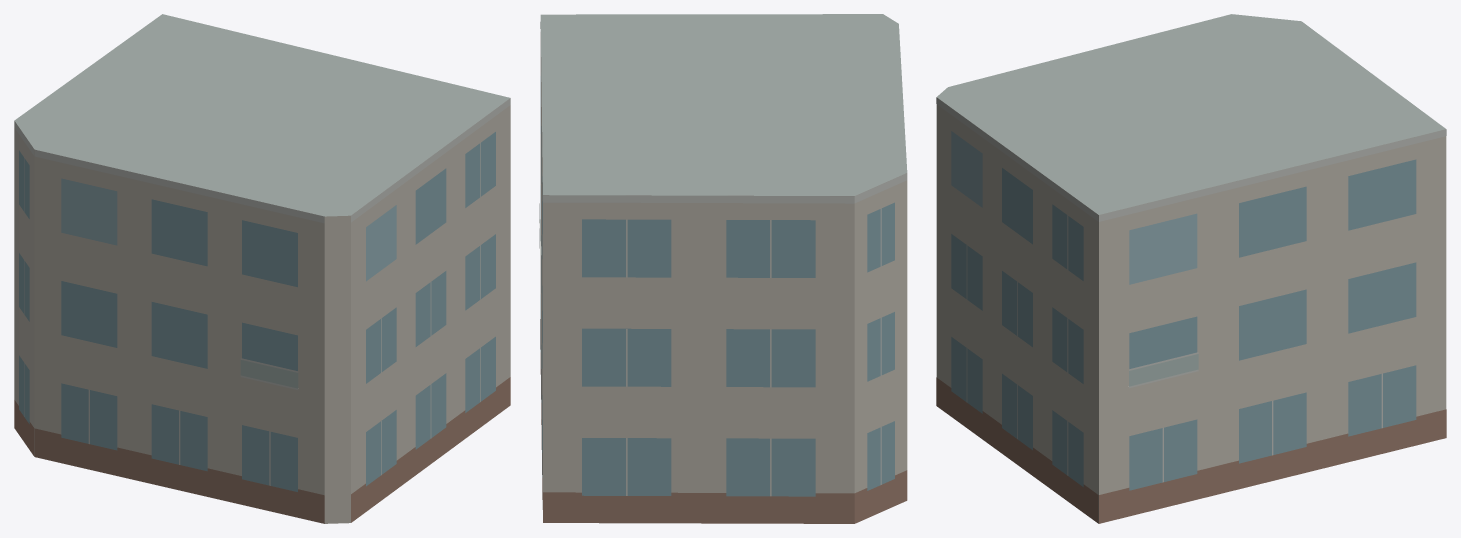
File: survey-upis-32762785.glb
3 views of the same model, side by side, from view 1: azimuth 30°, elevation 25°; view 2: azimuth 150°, elevation 25°; view 3: azimuth 270°, elevation 25° (orthographic). The views are drawn at different scales.
Parts seen in each view (by area): view 1: survey-upis-32762785.tmp; view 2: survey-upis-32762785.tmp; view 3: survey-upis-32762785.tmp.
Boxes of the visible parts, box(x1,y1,x2,y2) form: survey-upis-32762785.tmp: box(14, 14, 510, 523); survey-upis-32762785.tmp: box(539, 14, 907, 523); survey-upis-32762785.tmp: box(936, 14, 1446, 523).
Bounding box in the file's own units: 15.09 × 10.8 × 16.17.
